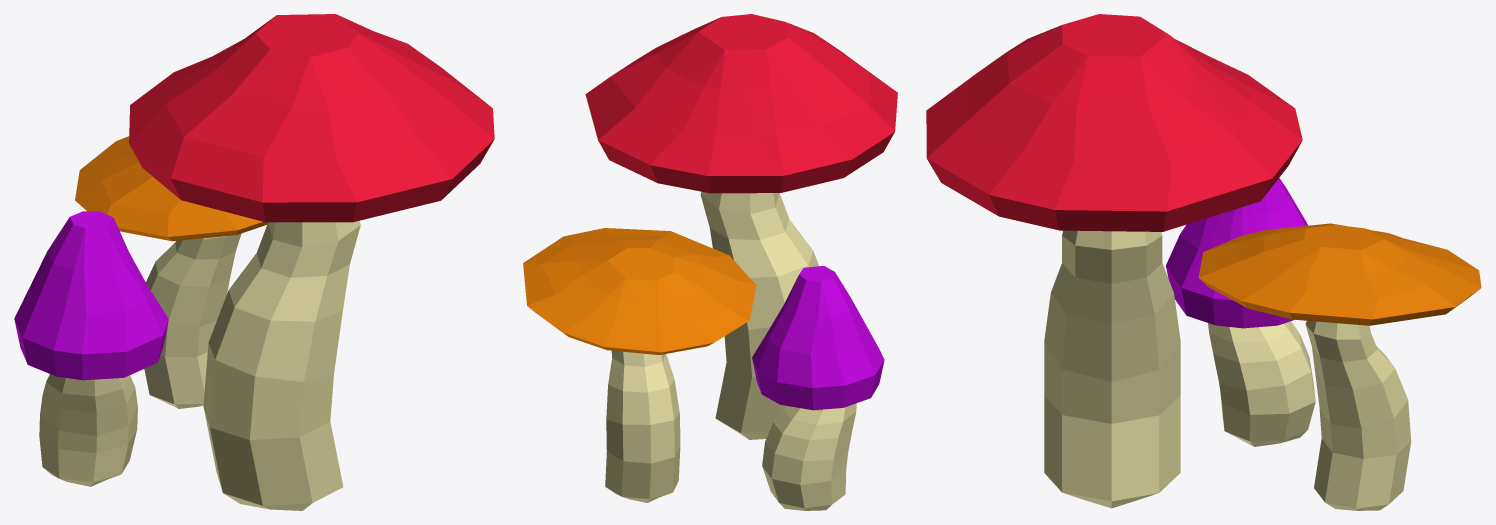
The model's file is setas.fbx.
3 renders of one model, left to right at view 1: azimuth 30°, elevation 25°; view 2: azimuth 150°, elevation 25°; view 3: azimuth 270°, elevation 25°, orthographic. The views are drawn at different scales.
Parts seen in each view (by area): view 1: Seta; view 2: Seta; view 3: Seta.
Part boxes in pixels (x1,y1,x2,y2): Seta: [14, 14, 494, 510]; Seta: [523, 14, 897, 510]; Seta: [926, 14, 1481, 510].
Size of the model in its own units: 1889 by 2175 by 2324.
